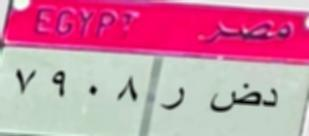0: (85, 80, 104, 101)
7: (11, 65, 40, 99)
8: (115, 75, 138, 106)
9: (48, 66, 70, 100)
daad: (206, 79, 262, 115)
daal: (263, 85, 280, 111)
raa: (158, 80, 187, 116)
